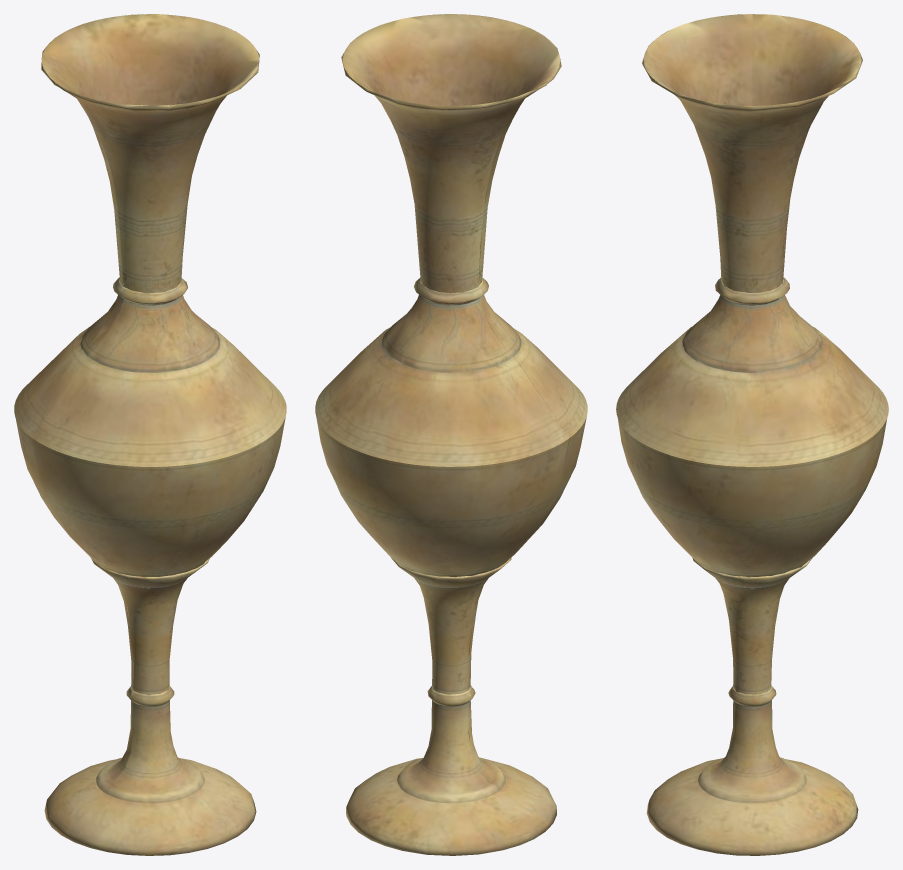
File: ph_brass_vase_01.glb
3 views of the same model, side by side, from view 1: azimuth 30°, elevation 25°; view 2: azimuth 150°, elevation 25°; view 3: azimuth 270°, elevation 25° (orthographic).
Parts seen in each view (by area): view 1: brass_vase_01; view 2: brass_vase_01; view 3: brass_vase_01.
Part boxes in pixels (x1=…): brass_vase_01: x1=14, y1=14, x2=286, y2=855; brass_vase_01: x1=315, y1=14, x2=587, y2=855; brass_vase_01: x1=616, y1=14, x2=888, y2=855.
Size of the model in its own units: 0.228 by 0.6928 by 0.2279.
1 material, 1 textured.
